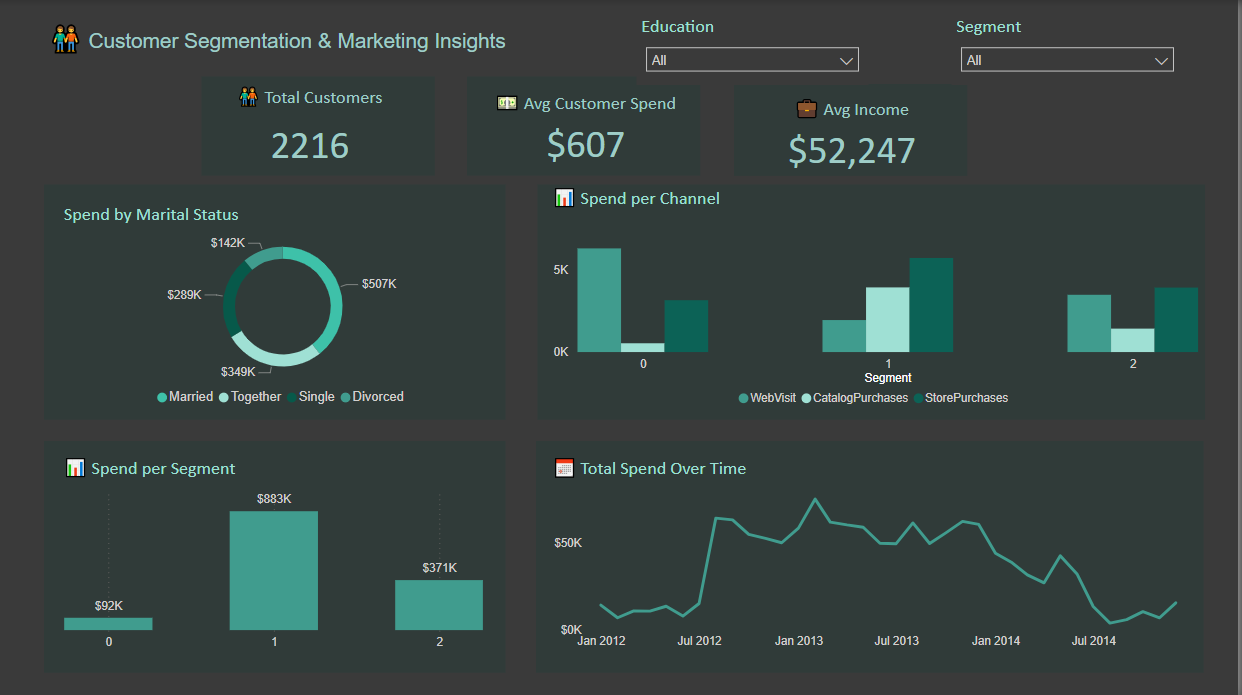

Layout of this report page (visuals, bound fields, positions):
{"tool":"powerbi","page":{"name":"Page 1","canvas":[1280,720],"ordinal":0},"visuals":[{"type":"shape","box":[488,79.4,240.2,102.1],"z":0},{"type":"shape","box":[213.8,79.4,240.2,102.1],"z":1000},{"type":"shape","box":[762.3,87,240.2,94.6],"z":2000},{"type":"shape","box":[559.9,189.2,686.7,242.1],"z":3000},{"type":"shape","box":[558,454,686.7,238.3],"z":4000},{"type":"shape","box":[53,454,474.8,238.3],"z":5000},{"type":"shape","box":[53,189.2,474.8,242.1],"z":6000},{"type":"card","title":"🧑🤝🧑 Total Customers","fields":{"Values":["CountNonNull(market.ID)"]},"box":[214.5,86.4,222.2,95.7],"z":7000},{"type":"card","title":"💵 Avg Customer Spend","fields":{"Values":["Avg(market.TotalSpend)"]},"box":[487.6,92.6,243.8,81.8],"z":8000},{"type":"card","title":"💼  Avg Income","fields":{"Values":["Avg(market.Income)"]},"box":[780.7,98.7,205.2,81.8],"z":9000},{"type":"columnChart","title":"📊 Spend per Segment ","fields":{"Category":["market.Segment"],"Y":["Sum(market.TotalSpend)"]},"box":[67.9,467.5,441.3,208.3],"z":10000},{"type":"clusteredColumnChart","title":"📊 Spend per Channel","fields":{"Category":["market.Segment"],"Y":["Sum(market.NumWebVisitsMonth)","Sum(market.NumCatalogPurchases)","Sum(market.NumStorePurchases)"]},"box":[571.3,189.2,673.4,238.3],"z":11000},{"type":"lineChart","title":"📅 Total Spend Over Time","fields":{"Y":["Sum(market.TotalSpend)"],"Category":["market.Dt_Customer.Variation.Date Hierarchy.Year","market.Dt_Customer.Variation.Date Hierarchy.Quarter","market.Dt_Customer.Variation.Date Hierarchy.Month"]},"box":[571.3,467.2,673.4,208.1],"z":12000},{"type":"donutChart","title":"Spend by Marital Status","fields":{"Y":["Sum(market.TotalSpend)"],"Category":["market.Marital_Status"]},"box":[68.1,208.1,459.7,219.4],"z":13000},{"type":"textbox","box":[52.5,15.4,507.6,63.3],"z":14000},{"type":"slicer","title":" Education","fields":{"Values":["market.Education"]},"box":[662.1,15.1,238.3,71.9],"z":15000},{"type":"slicer","title":" Segment","fields":{"Values":["market.Segment"]},"box":[985.6,15.1,238.3,71.9],"z":16000}]}

Visuals, with their boxes in screenshot pixels (x1, y1, x2, y2), scaled from the page's 1280x720 canvas onto the 1242x695 screenshot:
shape: [x1=474, y1=77, x2=707, y2=175]
shape: [x1=207, y1=77, x2=441, y2=175]
shape: [x1=740, y1=84, x2=973, y2=175]
shape: [x1=543, y1=183, x2=1210, y2=416]
shape: [x1=541, y1=438, x2=1208, y2=668]
shape: [x1=51, y1=438, x2=512, y2=668]
shape: [x1=51, y1=183, x2=512, y2=416]
"🧑🤝🧑 Total Customers" card: [x1=208, y1=83, x2=424, y2=176]
"💵 Avg Customer Spend" card: [x1=473, y1=89, x2=710, y2=168]
"💼  Avg Income" card: [x1=758, y1=95, x2=957, y2=174]
"📊 Spend per Segment " columnChart: [x1=66, y1=451, x2=494, y2=652]
"📊 Spend per Channel" clusteredColumnChart: [x1=554, y1=183, x2=1208, y2=413]
"📅 Total Spend Over Time" lineChart: [x1=554, y1=451, x2=1208, y2=652]
"Spend by Marital Status" donutChart: [x1=66, y1=201, x2=512, y2=413]
textbox: [x1=51, y1=15, x2=543, y2=76]
" Education" slicer: [x1=642, y1=15, x2=874, y2=84]
" Segment" slicer: [x1=956, y1=15, x2=1188, y2=84]
